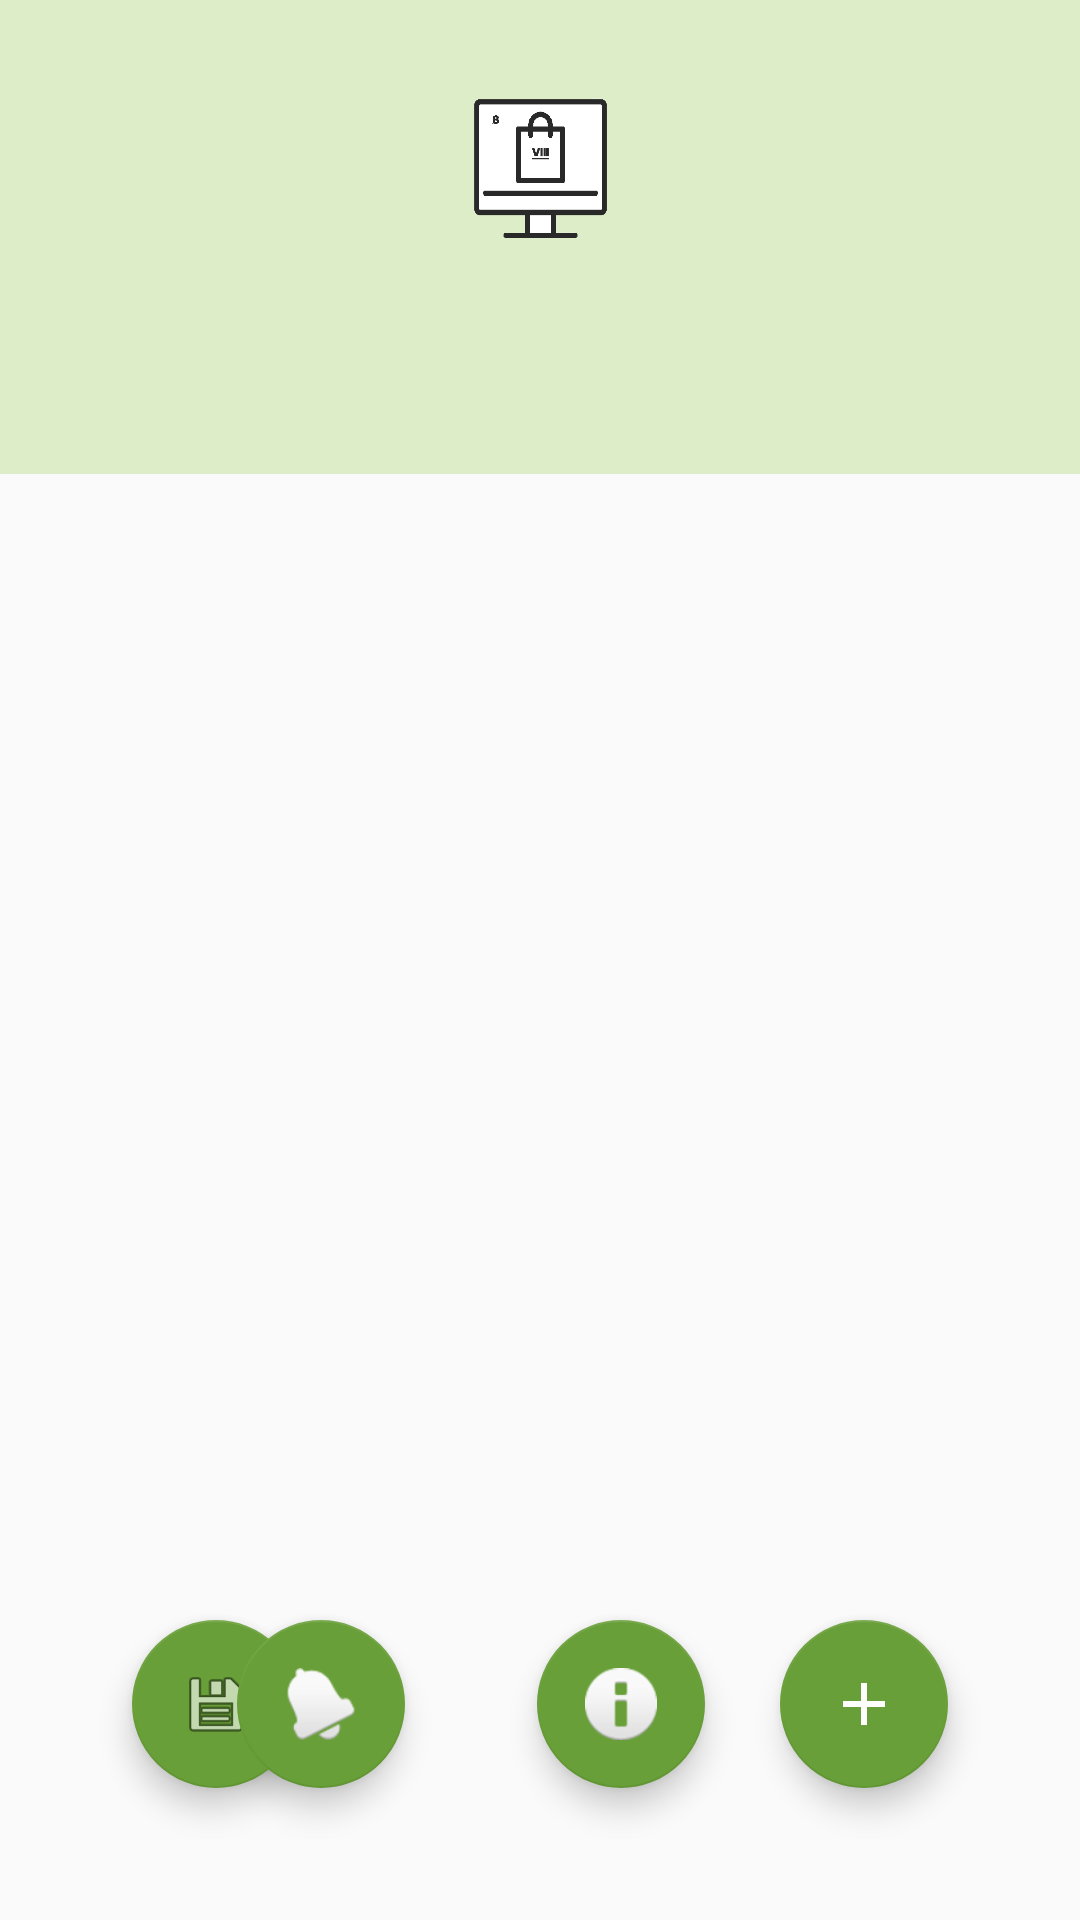

Point at icon controls on the screen. Image size 1080w x 1920h, points as [x,y].
add: [864,1704]
info: [621,1704]
popup reminder: [321,1704]
